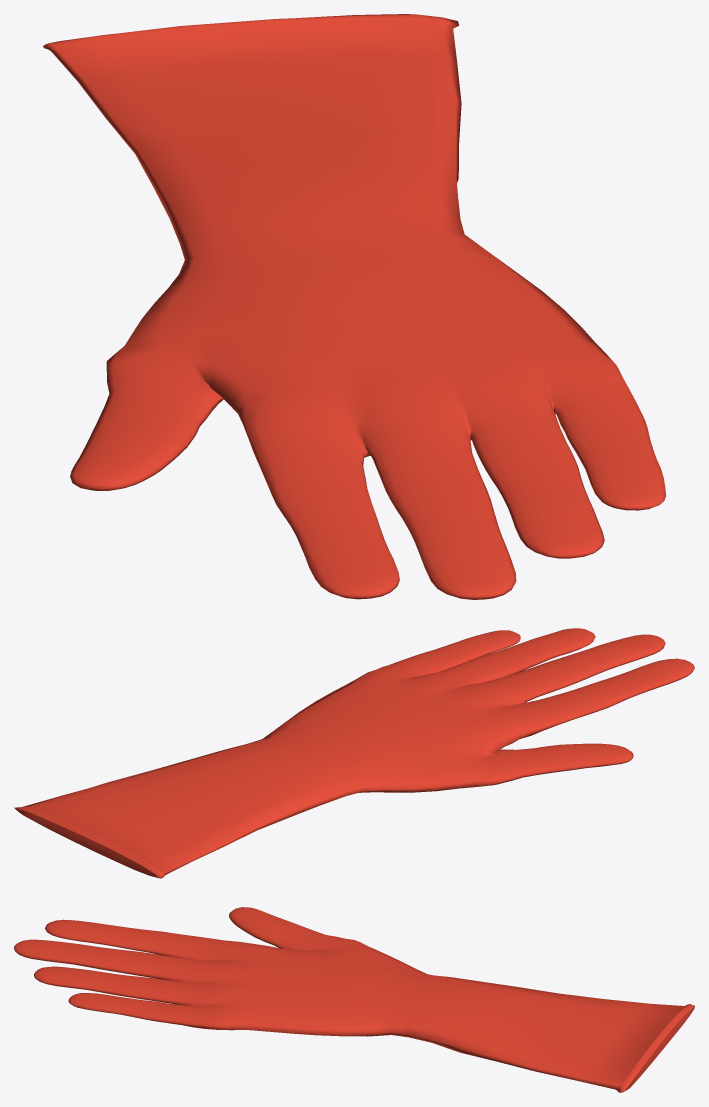
Rendered from rubber_gloves_L.fbx.
3 renders of one model, top to bottom at view 1: azimuth 30°, elevation 25°; view 2: azimuth 150°, elevation 25°; view 3: azimuth 270°, elevation 25°, orthographic. The views are drawn at different scales.
Parts seen in each view (by area): view 1: rubber_gloves; view 2: rubber_gloves; view 3: rubber_gloves.
Boxes of the visible parts, x1=… form: rubber_gloves: x1=43, y1=14, x2=666, y2=599; rubber_gloves: x1=14, y1=628, x2=694, y2=878; rubber_gloves: x1=14, y1=907, x2=694, y2=1092.
Bounding box in the file's own units: 20.41 × 1.13 × 31.65.
